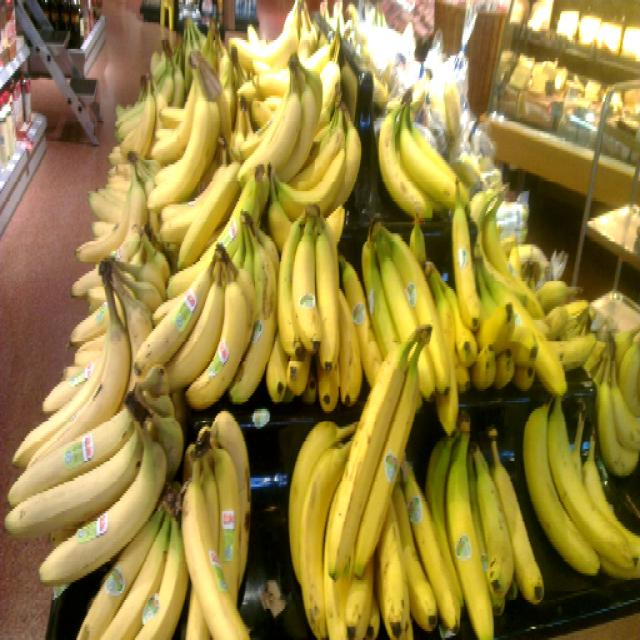banana: (293, 320, 547, 640), (1, 363, 188, 588), (115, 38, 363, 200), (130, 205, 281, 417), (350, 218, 474, 440), (523, 391, 640, 604), (260, 196, 366, 422), (175, 401, 273, 640), (373, 79, 501, 215)
